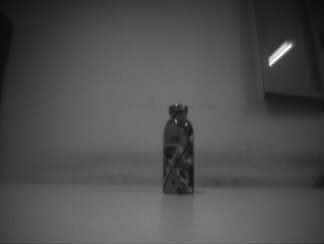Bottle: (162, 104, 194, 195)
